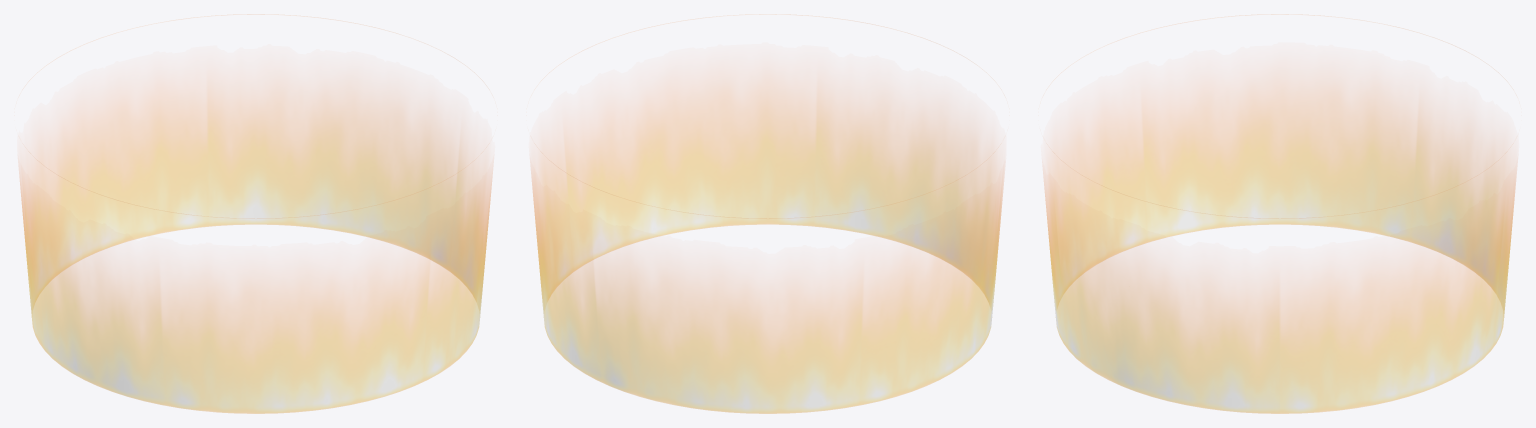
File: shock_wall_fire.glb
The picture shows the model from 3 angles, left to right: view 1: azimuth 30°, elevation 25°; view 2: azimuth 150°, elevation 25°; view 3: azimuth 270°, elevation 25°; orthographic projection.
Parts seen in each view (by area): view 1: wall; view 2: wall; view 3: wall.
Boxes of the visible parts, box(x1,y1,x2,y2) form: wall: box(19, 14, 492, 413); wall: box(531, 15, 1003, 413); wall: box(1044, 14, 1516, 413).
Size of the model in its own units: 2.16 by 1 by 2.16.
Materials: 1 (1 with a texture image).
